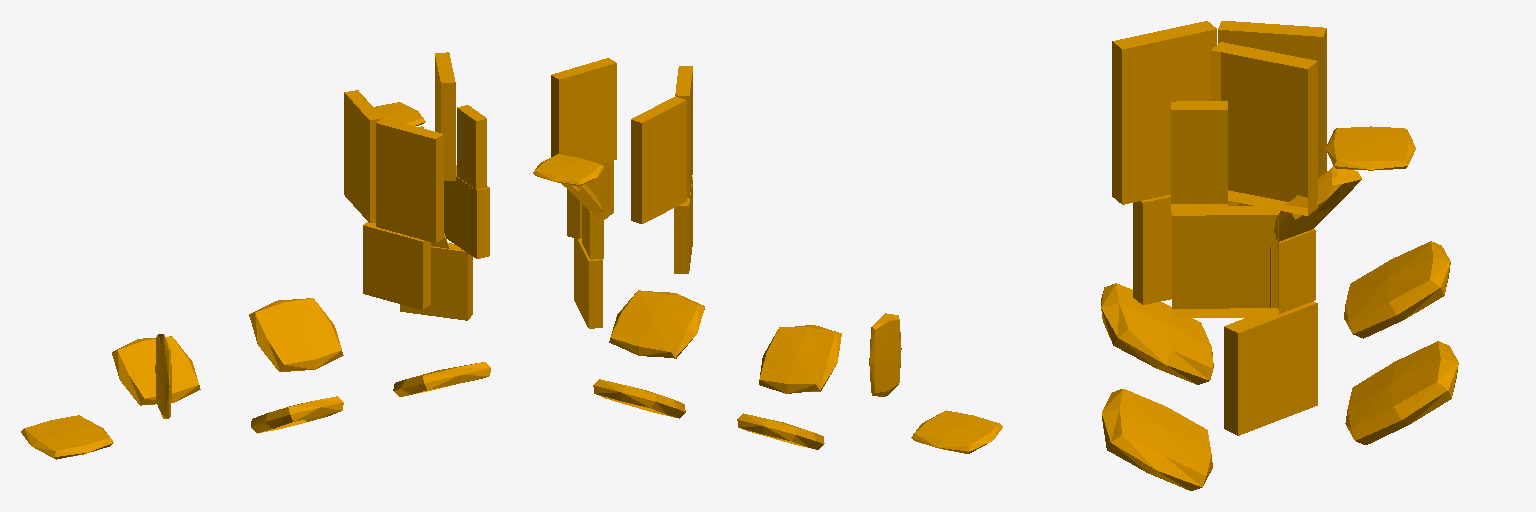
URDF robot description (obstacle):
<?xml version="1.0"?>
<robot name="obstacle">
  <link name="base_link">
    <inertial>
      <origin xyz="0 0 0" /> 
      <mass value="1.0" />
      <inertia  ixx="1.0" ixy="0.0"  ixz="0.0"  iyy="1.0"  iyz="0.0"  izz="1.0" />
    </inertial>
    <visual>
      <origin xyz="0 0 0"/>
      <geometry>
        <mesh filename="package://hpp-rbprm-corba/meshes/high_plateforms.stl"/>
      </geometry>
    </visual>
    <collision>
      <origin xyz="0 0 0"/>
      <geometry>
        <mesh filename="package://hpp-rbprm-corba/meshes/high_plateforms.stl"/>
      </geometry>
    </collision>
  </link>
</robot>

--- Render facts (derived) ---
3 views of the same robot in one strip: view 1: azimuth 30°, elevation 25°; view 2: azimuth 150°, elevation 25°; view 3: azimuth 270°, elevation 25° (orthographic).
Robot: obstacle — 1 links, 0 joints (none); root link base_link; default pose: every joint at zero.
Visible links, largest first — view 1: base_link; view 2: base_link; view 3: base_link.
Boxes of the visible links, x1,y1,x2,y2 form: base_link: [21, 52, 490, 459]; base_link: [533, 58, 1002, 453]; base_link: [1101, 21, 1458, 490].
Size in the robot's own frame: 16.61 by 7.95 by 10.97 metres.
Meshes: 1 distinct files referenced, 1 mesh visuals loaded (1 binary STL).